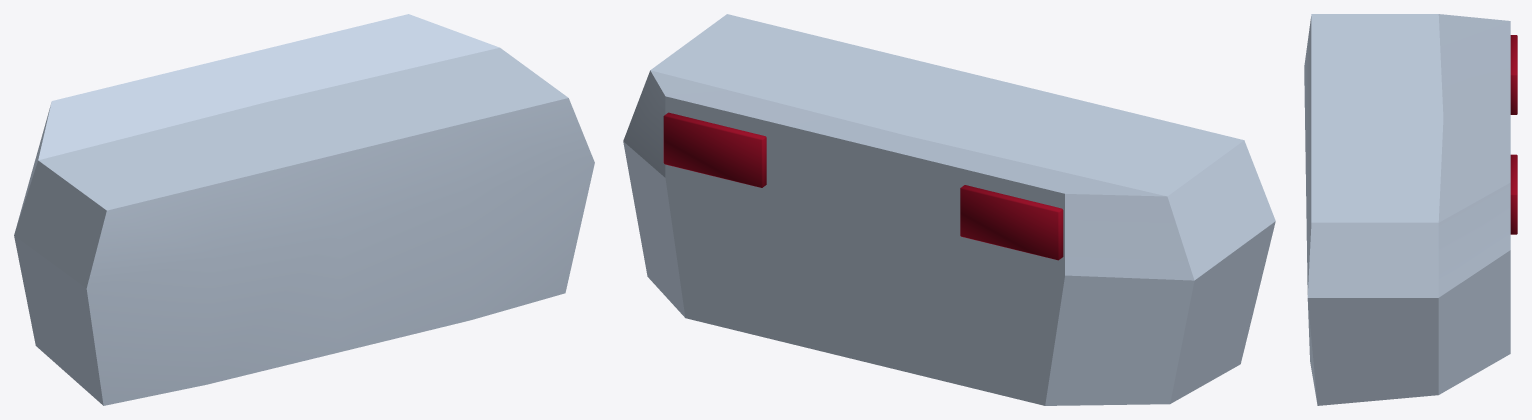
Rendered from Lighting2.fbx.
3 views of the same model, side by side, from view 1: azimuth 30°, elevation 25°; view 2: azimuth 150°, elevation 25°; view 3: azimuth 270°, elevation 25° (orthographic). The views are drawn at different scales.
Parts seen in each view (by area): view 1: Lighting2; view 2: Lighting2; view 3: Lighting2.
Boxes of the visible parts, x1,y1,x2,y2 form: Lighting2: [14, 14, 594, 405]; Lighting2: [623, 14, 1275, 405]; Lighting2: [1304, 14, 1517, 405].
Bounding box in the file's own units: 2.43 × 0.982 × 0.9509.
